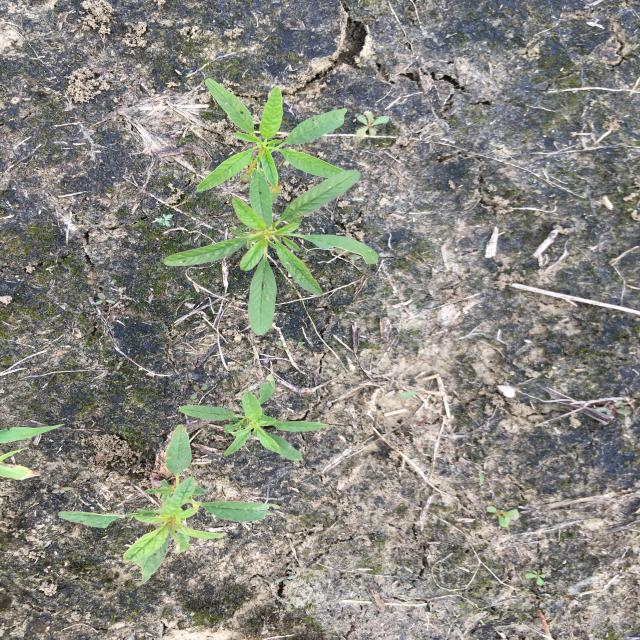Waterhemp: (55, 424, 283, 588), (161, 170, 381, 337), (194, 76, 352, 230), (177, 373, 332, 462)
